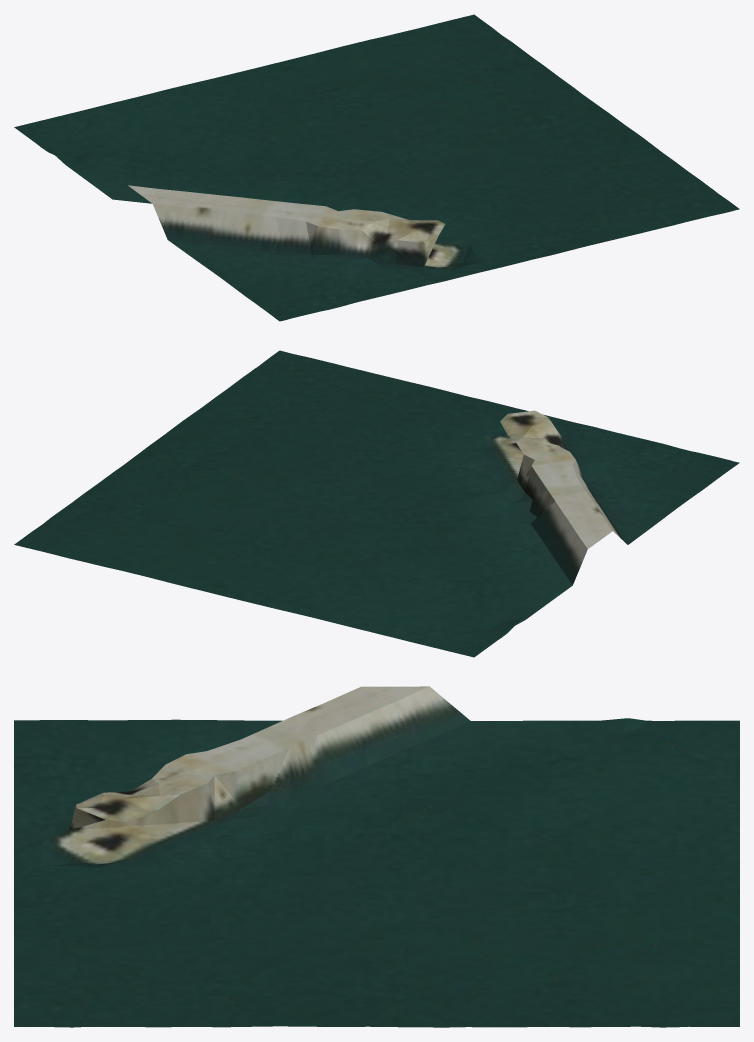
3 views of the same model, one above another, from view 1: azimuth 30°, elevation 25°; view 2: azimuth 150°, elevation 25°; view 3: azimuth 270°, elevation 25° (orthographic). The views are drawn at different scales.
Bounding box in the file's own units: 104 × 6.75 × 104.
Materials: 2 (2 with a texture image).
